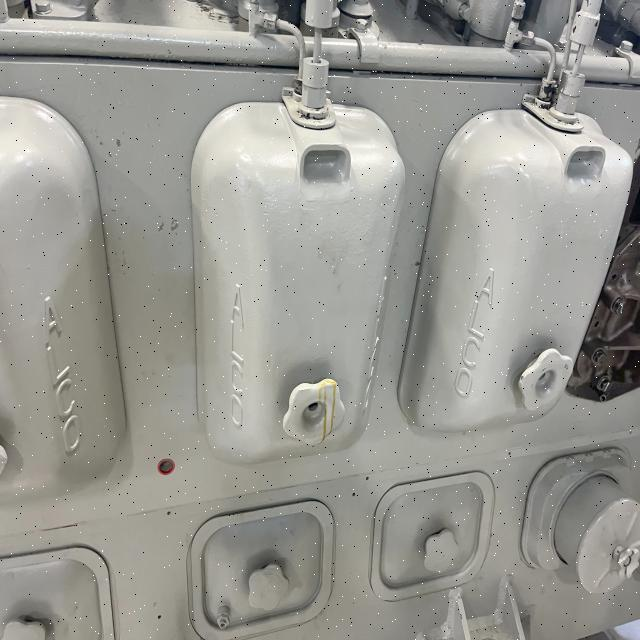Oil Leak: (317, 379, 345, 444)
